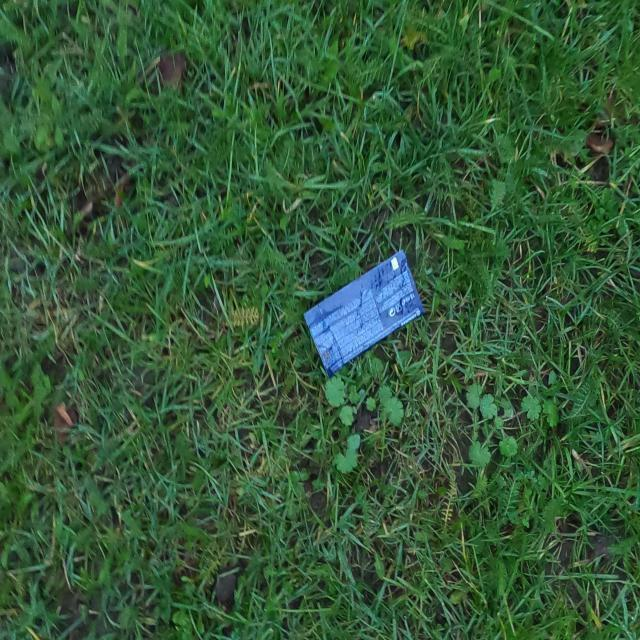Plastic: (300, 247, 426, 380)
